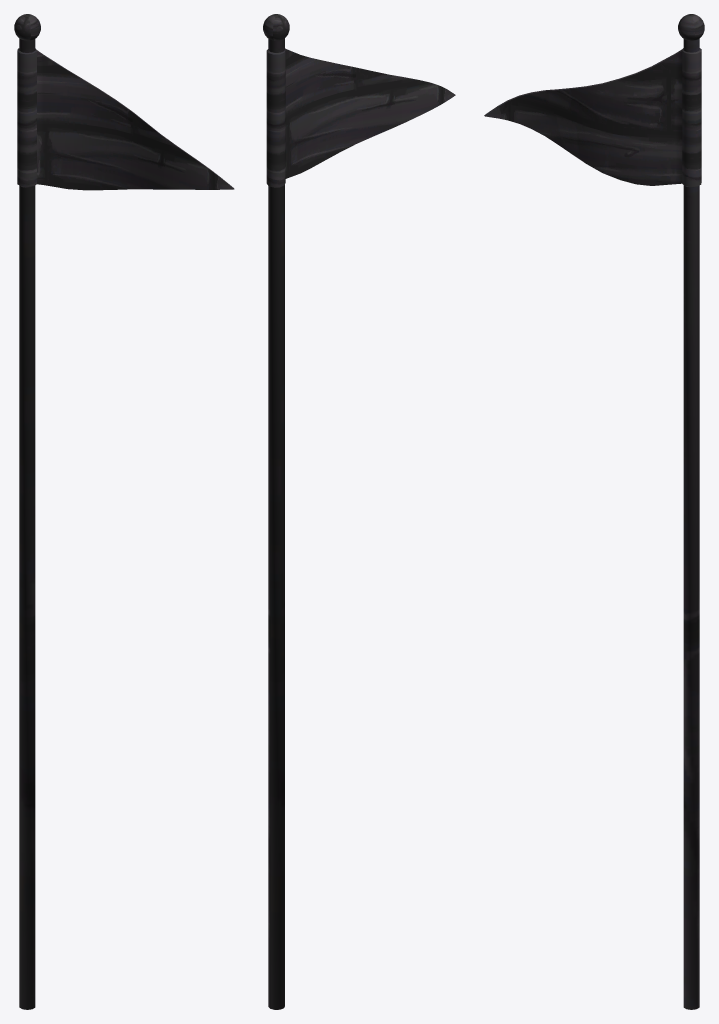
Rendered from Golf Pole.fbx.
The picture shows the model from 3 angles, left to right: view 1: azimuth 90°, elevation 25°; view 2: azimuth 150°, elevation 25°; view 3: azimuth 270°, elevation 25°; orthographic projection.
Visible parts, largest first — view 1: node_id30; view 2: node_id30; view 3: node_id30.
Part boxes in pixels (bbox=[...]): node_id30: bbox=[14, 14, 234, 1009]; node_id30: bbox=[263, 14, 455, 1009]; node_id30: bbox=[484, 14, 704, 1009].
Size of the model in its own units: 74.55 by 807 by 163.
